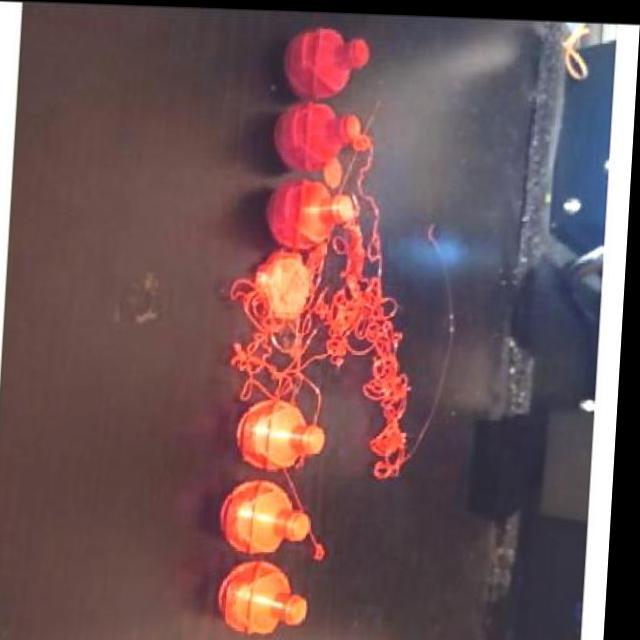spaghetti: (332, 130, 432, 474), (226, 232, 345, 403), (312, 524, 334, 561), (296, 447, 316, 470), (315, 400, 330, 426)
